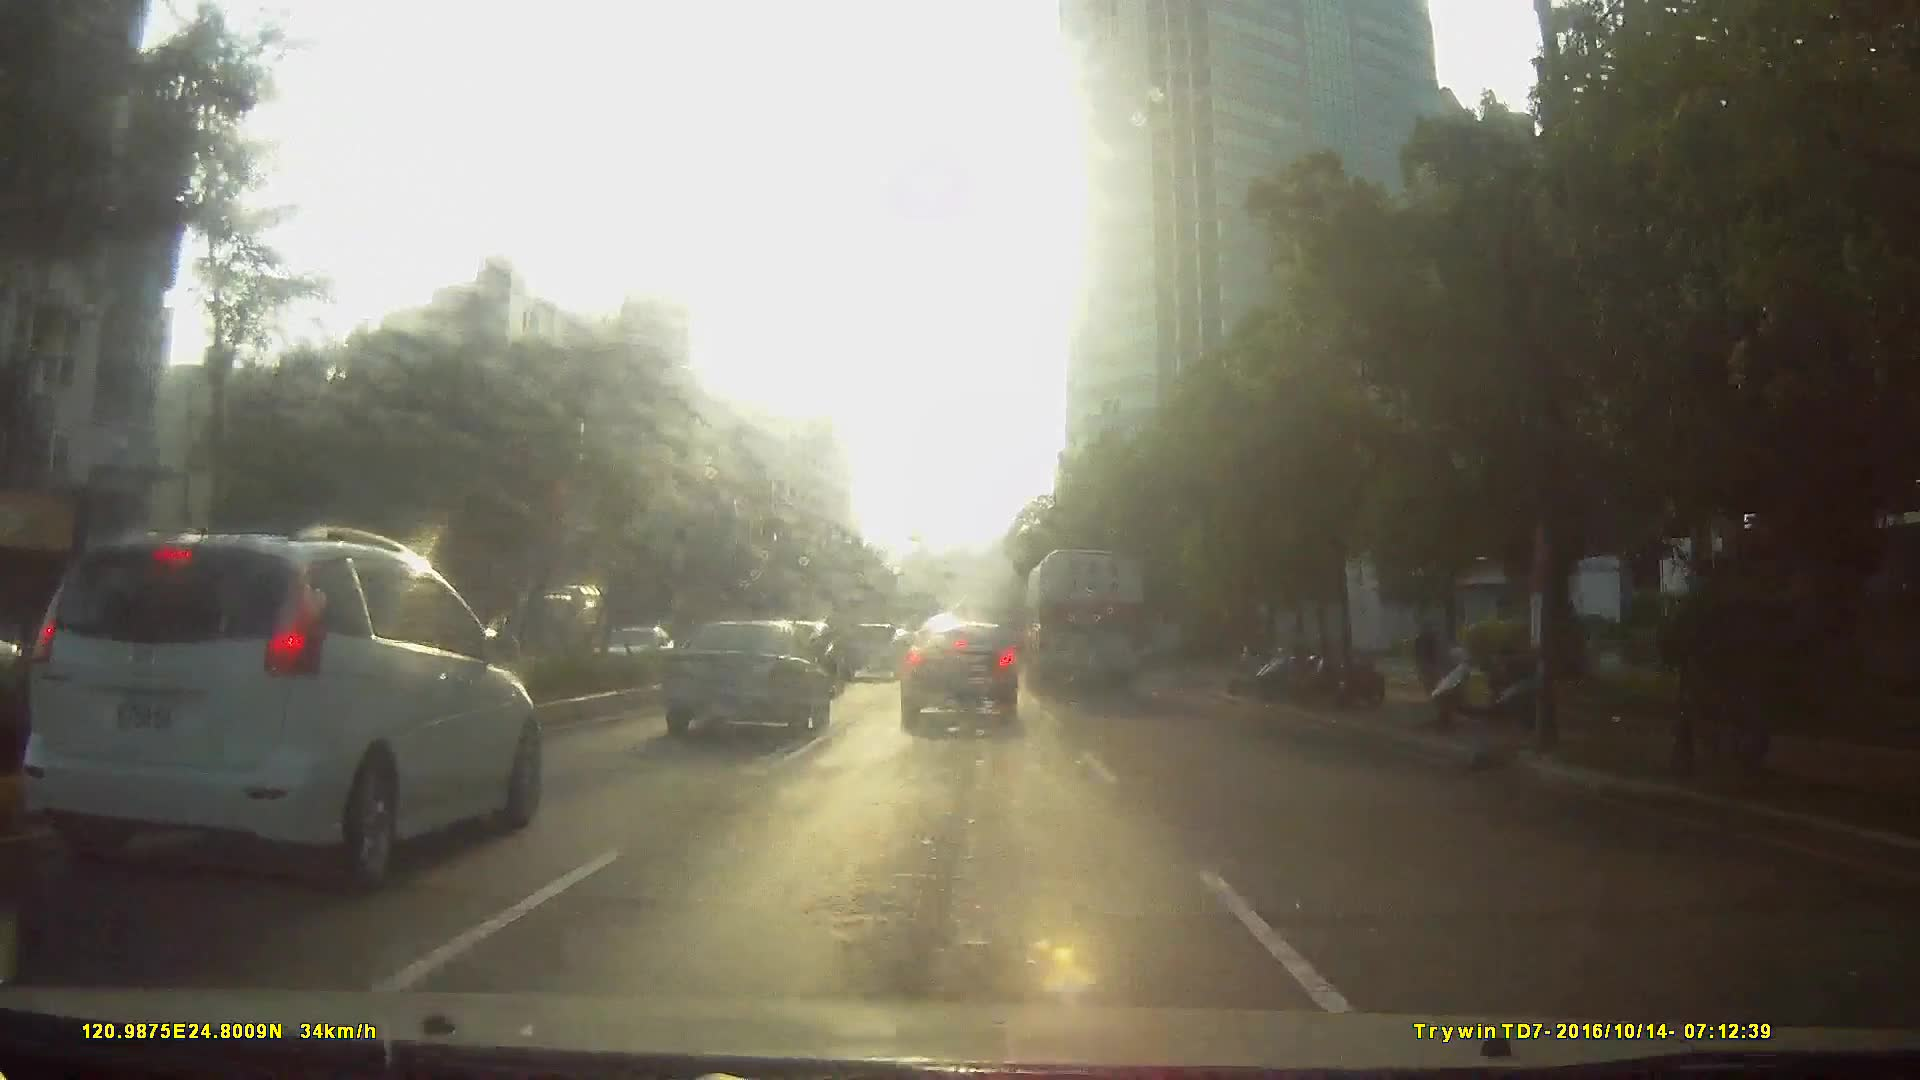pedestrian: (1411, 611, 1446, 705)
vehicle: (54, 507, 542, 896), (250, 556, 684, 868), (654, 612, 828, 737), (1022, 538, 1146, 692), (896, 616, 1022, 715), (498, 574, 597, 661), (839, 617, 902, 676)
